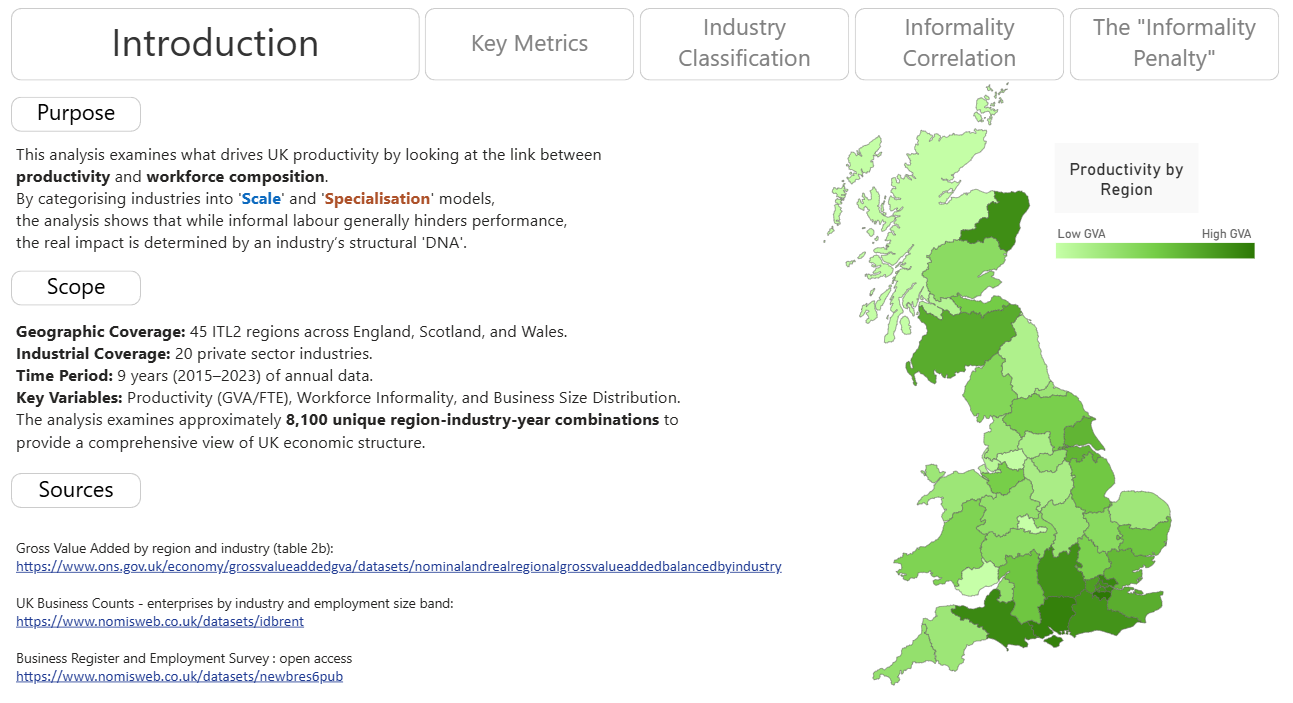

This screenshot's page, from the dashboard's own definition file:
{"tool":"powerbi","page":{"name":"Introduction","canvas":[1280,720],"ordinal":0},"visuals":[{"type":"shape","title":"Page - 1","box":[19.6,19.6,399.9,70.9],"z":0,"group":"g1"},{"type":"shape","title":"Page - 2","box":[424.6,19.6,205,70.9],"z":500,"group":"g1"},{"type":"shape","title":"Page - 3","box":[634.9,19.6,205,70.9],"z":750,"group":"g1"},{"type":"shape","title":"Page - 4","box":[845.2,19.6,205,70.9],"z":875,"group":"g1"},{"type":"shape","title":"Page - 5","box":[1055.6,19.6,205,70.9],"z":937,"group":"g1"},{"type":"textbox","title":"Purpose text","box":[20,145.5,589.4,137],"z":1000},{"type":"textbox","title":"Scope text","box":[20,319,686,159],"z":2000},{"type":"textbox","title":"Sources text","box":[19.6,516,766.7,198.1],"z":3000},{"type":"shape","title":"Purpose title","box":[19.6,106.4,127.2,34.2],"z":4000},{"type":"shape","title":"Scope title","box":[20,276.4,127.2,34.2],"z":5000},{"type":"shape","title":"Sources title","box":[19.6,474.5,127.2,34.2],"z":6000},{"type":"shapeMap","title":"Productivity by Region","fields":{"Category":["Page 1 map visual.Region"],"Value":["Sum(Page 1 map visual.GVA per FTE)"]},"box":[768.8,55,431.7,665],"z":7000},{"type":"group","id":"g1","title":"Pages","box":[19.6,19.6,1241,70.9],"z":7500},{"type":"shape","title":"Visual title overlay","box":[1040.2,151.6,140.6,68.5],"z":8000},{"type":"image","box":[1037,244.8,204.2,25],"z":9000},{"type":"shape","title":"Visual title overlay","box":[1038,228,57.5,25.7],"z":10000},{"type":"shape","title":"Visual title overlay","box":[1180,228,57.5,25.7],"z":11000}]}

Visuals, with their boxes on the page's 1280x720 design canvas (x1, y1, x2, y2). These are canvas units, not pixel positions in the 1293x703 screenshot, which may show the page scaled, cropped or inside an application window:
"Page - 1" shape: locate(20, 20, 420, 90)
"Page - 2" shape: locate(425, 20, 630, 90)
"Page - 3" shape: locate(635, 20, 840, 90)
"Page - 4" shape: locate(845, 20, 1050, 90)
"Page - 5" shape: locate(1056, 20, 1261, 90)
"Purpose text" textbox: locate(20, 146, 609, 282)
"Scope text" textbox: locate(20, 319, 706, 478)
"Sources text" textbox: locate(20, 516, 786, 714)
"Purpose title" shape: locate(20, 106, 147, 141)
"Scope title" shape: locate(20, 276, 147, 311)
"Sources title" shape: locate(20, 474, 147, 509)
"Productivity by Region" shapeMap: locate(769, 55, 1200, 720)
"Pages" group: locate(20, 20, 1261, 90)
"Visual title overlay" shape: locate(1040, 152, 1181, 220)
image: locate(1037, 245, 1241, 270)
"Visual title overlay" shape: locate(1038, 228, 1096, 254)
"Visual title overlay" shape: locate(1180, 228, 1238, 254)
